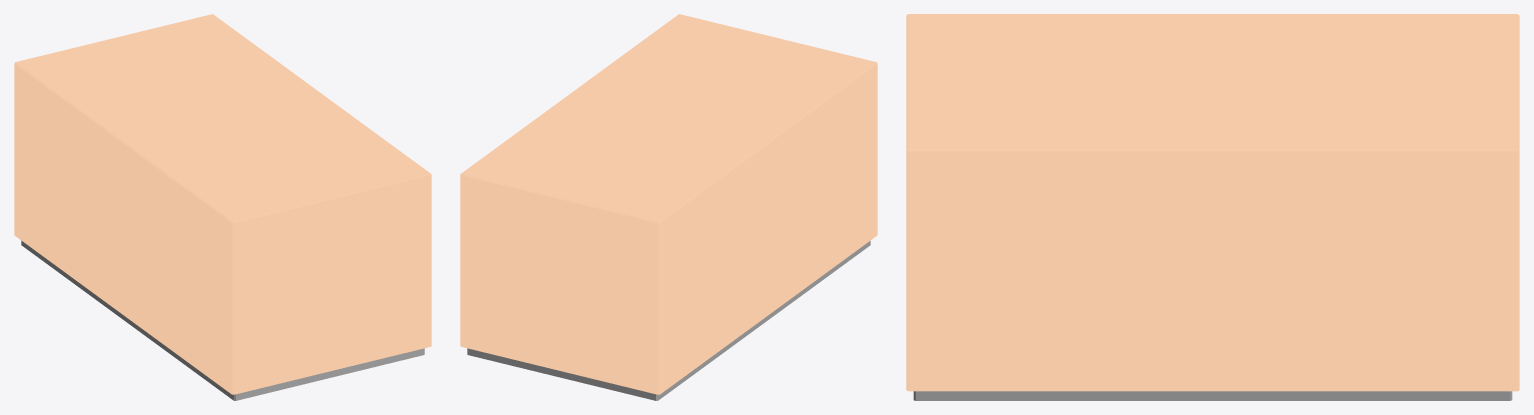
Rendered from NMS_Display_Box3_03.001.gltf.
3 renders of one model, left to right at view 1: azimuth 30°, elevation 25°; view 2: azimuth 150°, elevation 25°; view 3: azimuth 270°, elevation 25°, orthographic. The views are drawn at different scales.
Visible parts, largest first — view 1: NMS_Display_Box3_03; view 2: NMS_Display_Box3_03; view 3: NMS_Display_Box3_03.
Boxes of the visible parts, x1,y1,x2,y2 form: NMS_Display_Box3_03: [14, 14, 431, 400]; NMS_Display_Box3_03: [460, 14, 877, 400]; NMS_Display_Box3_03: [906, 14, 1519, 400].
Size of what is drawn, in the model's own units: 1 by 0.87 by 1.9.
